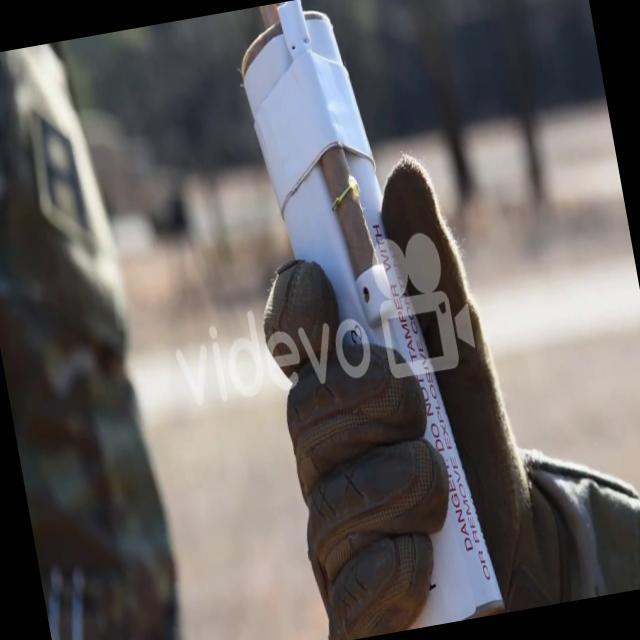grenade: (230, 0, 503, 640)
